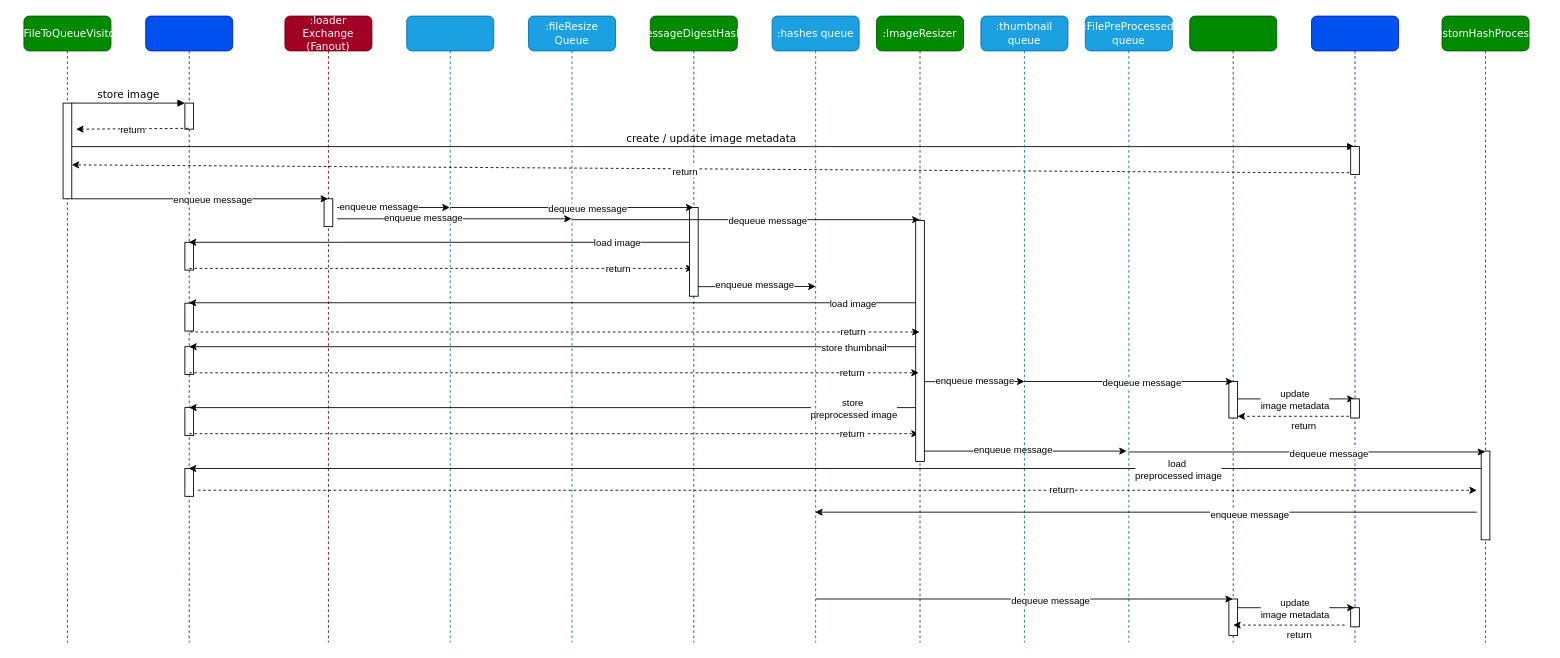
Some shapes in this 1560 by 658 pixel diagram are drawn without their labels. Each missing label, with the box of its shape:
:DBNode: (1189, 15, 1277, 642)
:fileDigest Queue: (406, 15, 494, 642)
:Minio: (145, 15, 233, 642)
:MongoDB: (1311, 15, 1399, 642)
